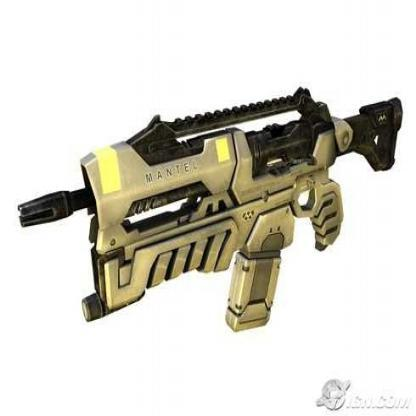Heavy Gun: (17, 84, 402, 331)
